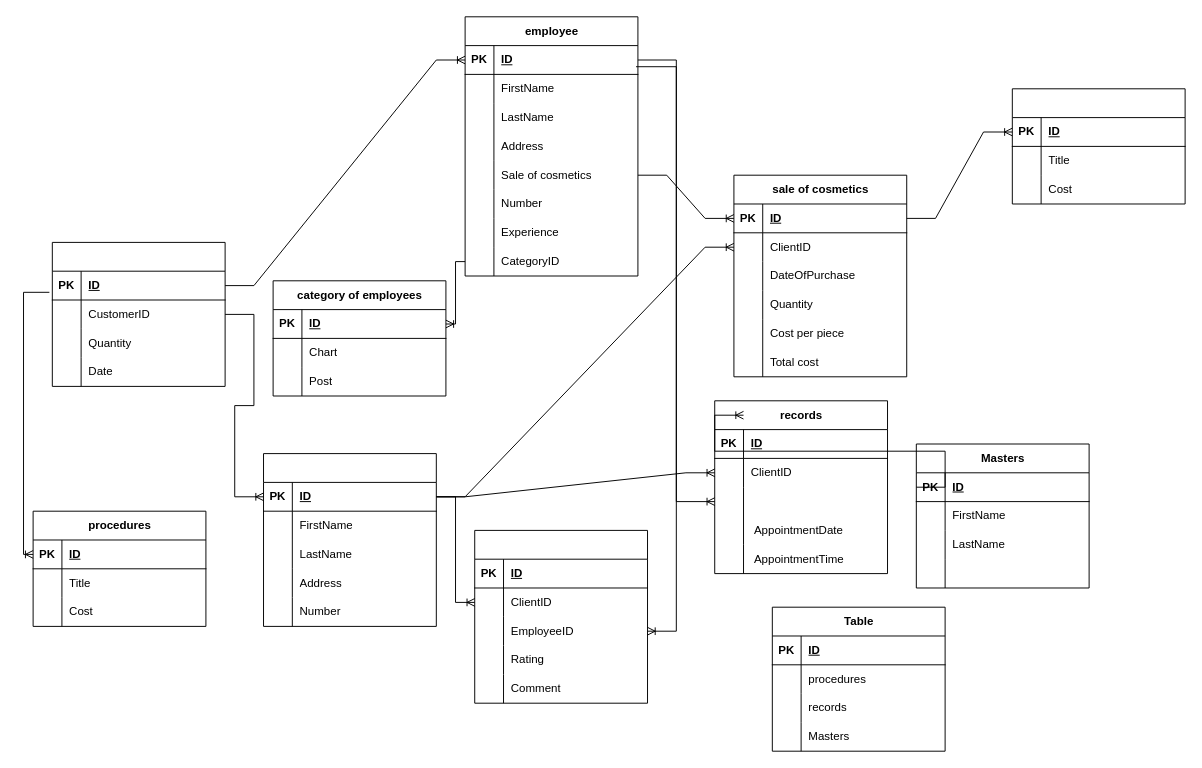
The diagram is 1202 pixels wide and 768 high, and some of its shapes have lost their labels. The shapes that lost their labels are listed below. From the top down, each one's box as (x1, y1, x2, y2) in pixels, then its label:
(1011, 88, 1185, 204): cosmetic
(51, 241, 225, 386): beauty salon
(263, 453, 436, 626): customers
(474, 529, 648, 703): reviews
